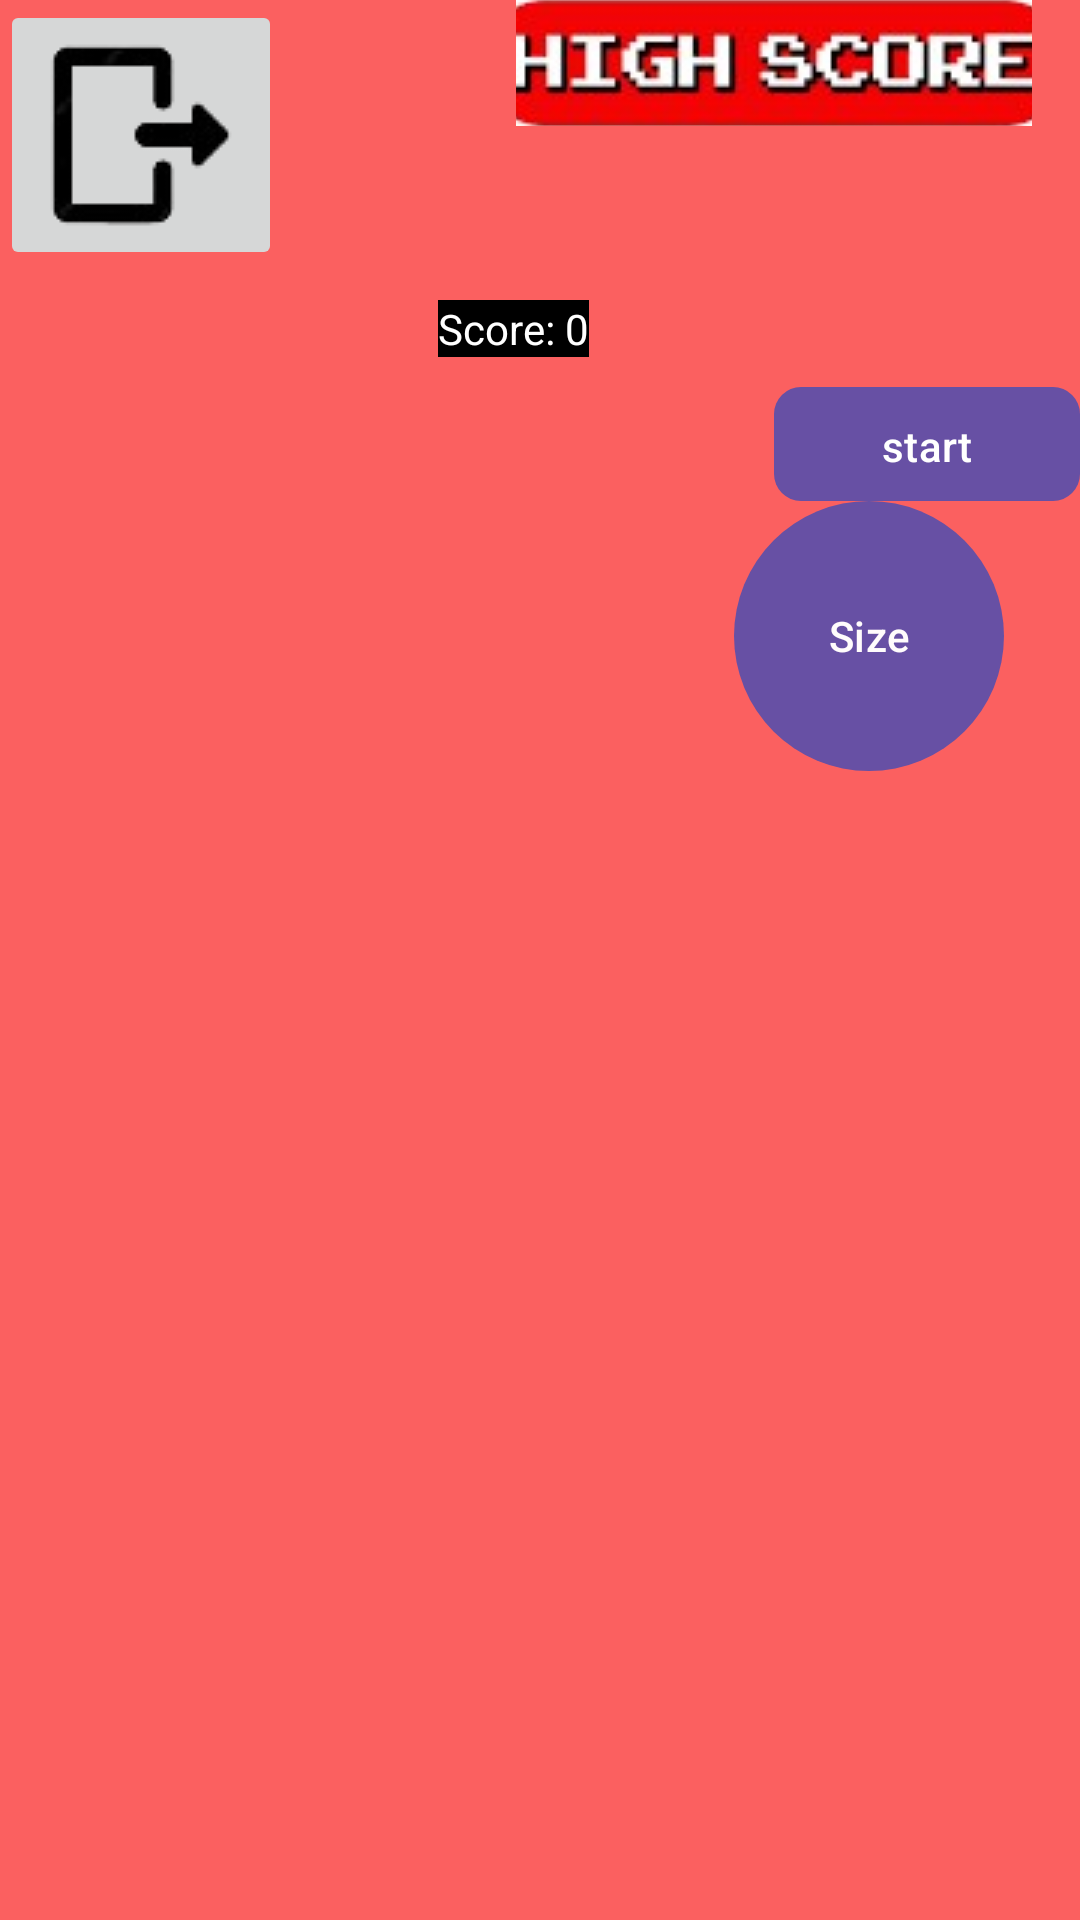

Locate icon controls on the screen. Image size 1080w x 1920h, boxes as (x1=x1, y1=y1, x2=x2, y2=y2).
exit: (x1=12, y1=18, x2=270, y2=252)
